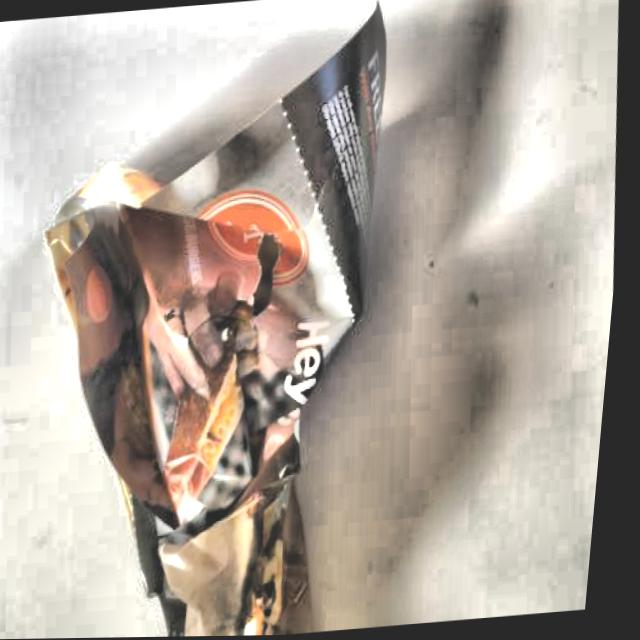Paper: (14, 0, 437, 639)
